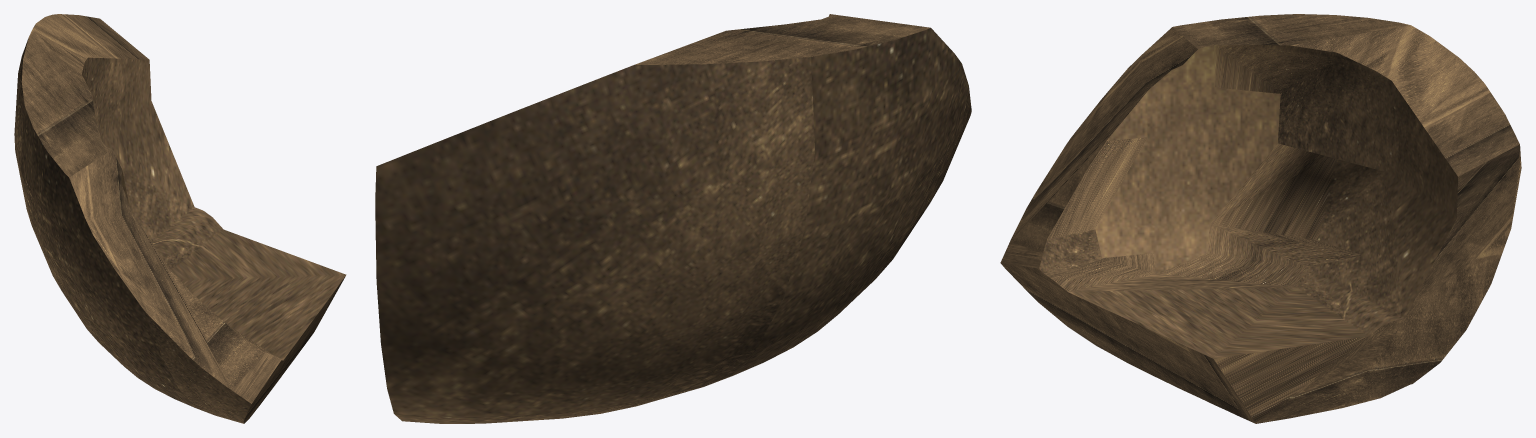
The picture shows the model from 3 angles, left to right: view 1: azimuth 30°, elevation 25°; view 2: azimuth 150°, elevation 25°; view 3: azimuth 270°, elevation 25°; orthographic projection. The views are drawn at different scales.
Parts seen in each view (by area): view 1: Cylinder_cell.012; view 2: Cylinder_cell.012; view 3: Cylinder_cell.012.
Part boxes in pixels (x1=…): Cylinder_cell.012: x1=14, y1=14, x2=346, y2=423; Cylinder_cell.012: x1=375, y1=14, x2=971, y2=423; Cylinder_cell.012: x1=1000, y1=14, x2=1521, y2=423.
Bounding box in the file's own units: 0.8403 × 0.7945 × 1.26.
1 material, 1 textured.
